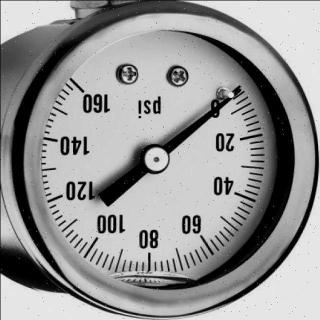gauge: (0, 0, 320, 320), (66, 72, 114, 115), (207, 77, 250, 117), (140, 143, 170, 175), (229, 82, 246, 100)
